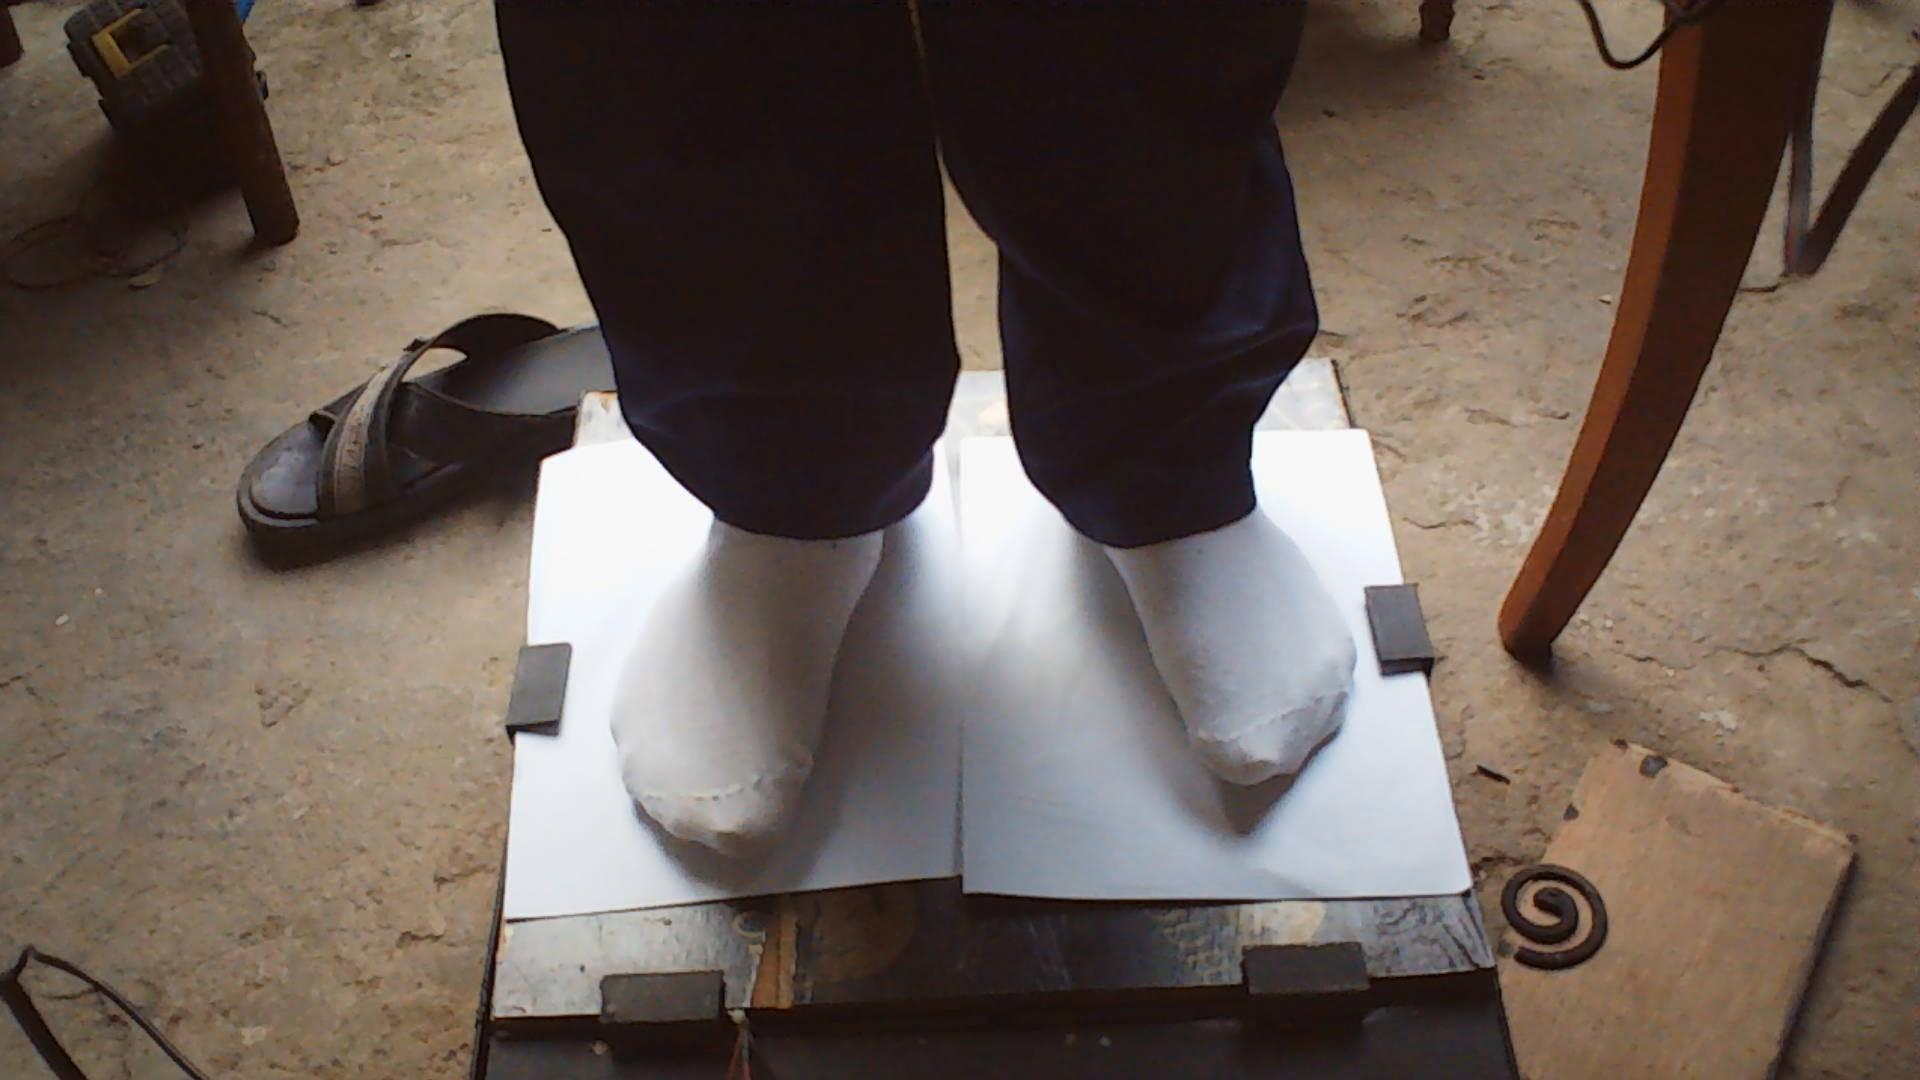white_socks: (611, 520, 882, 857), (611, 524, 880, 857), (1105, 509, 1356, 783)
